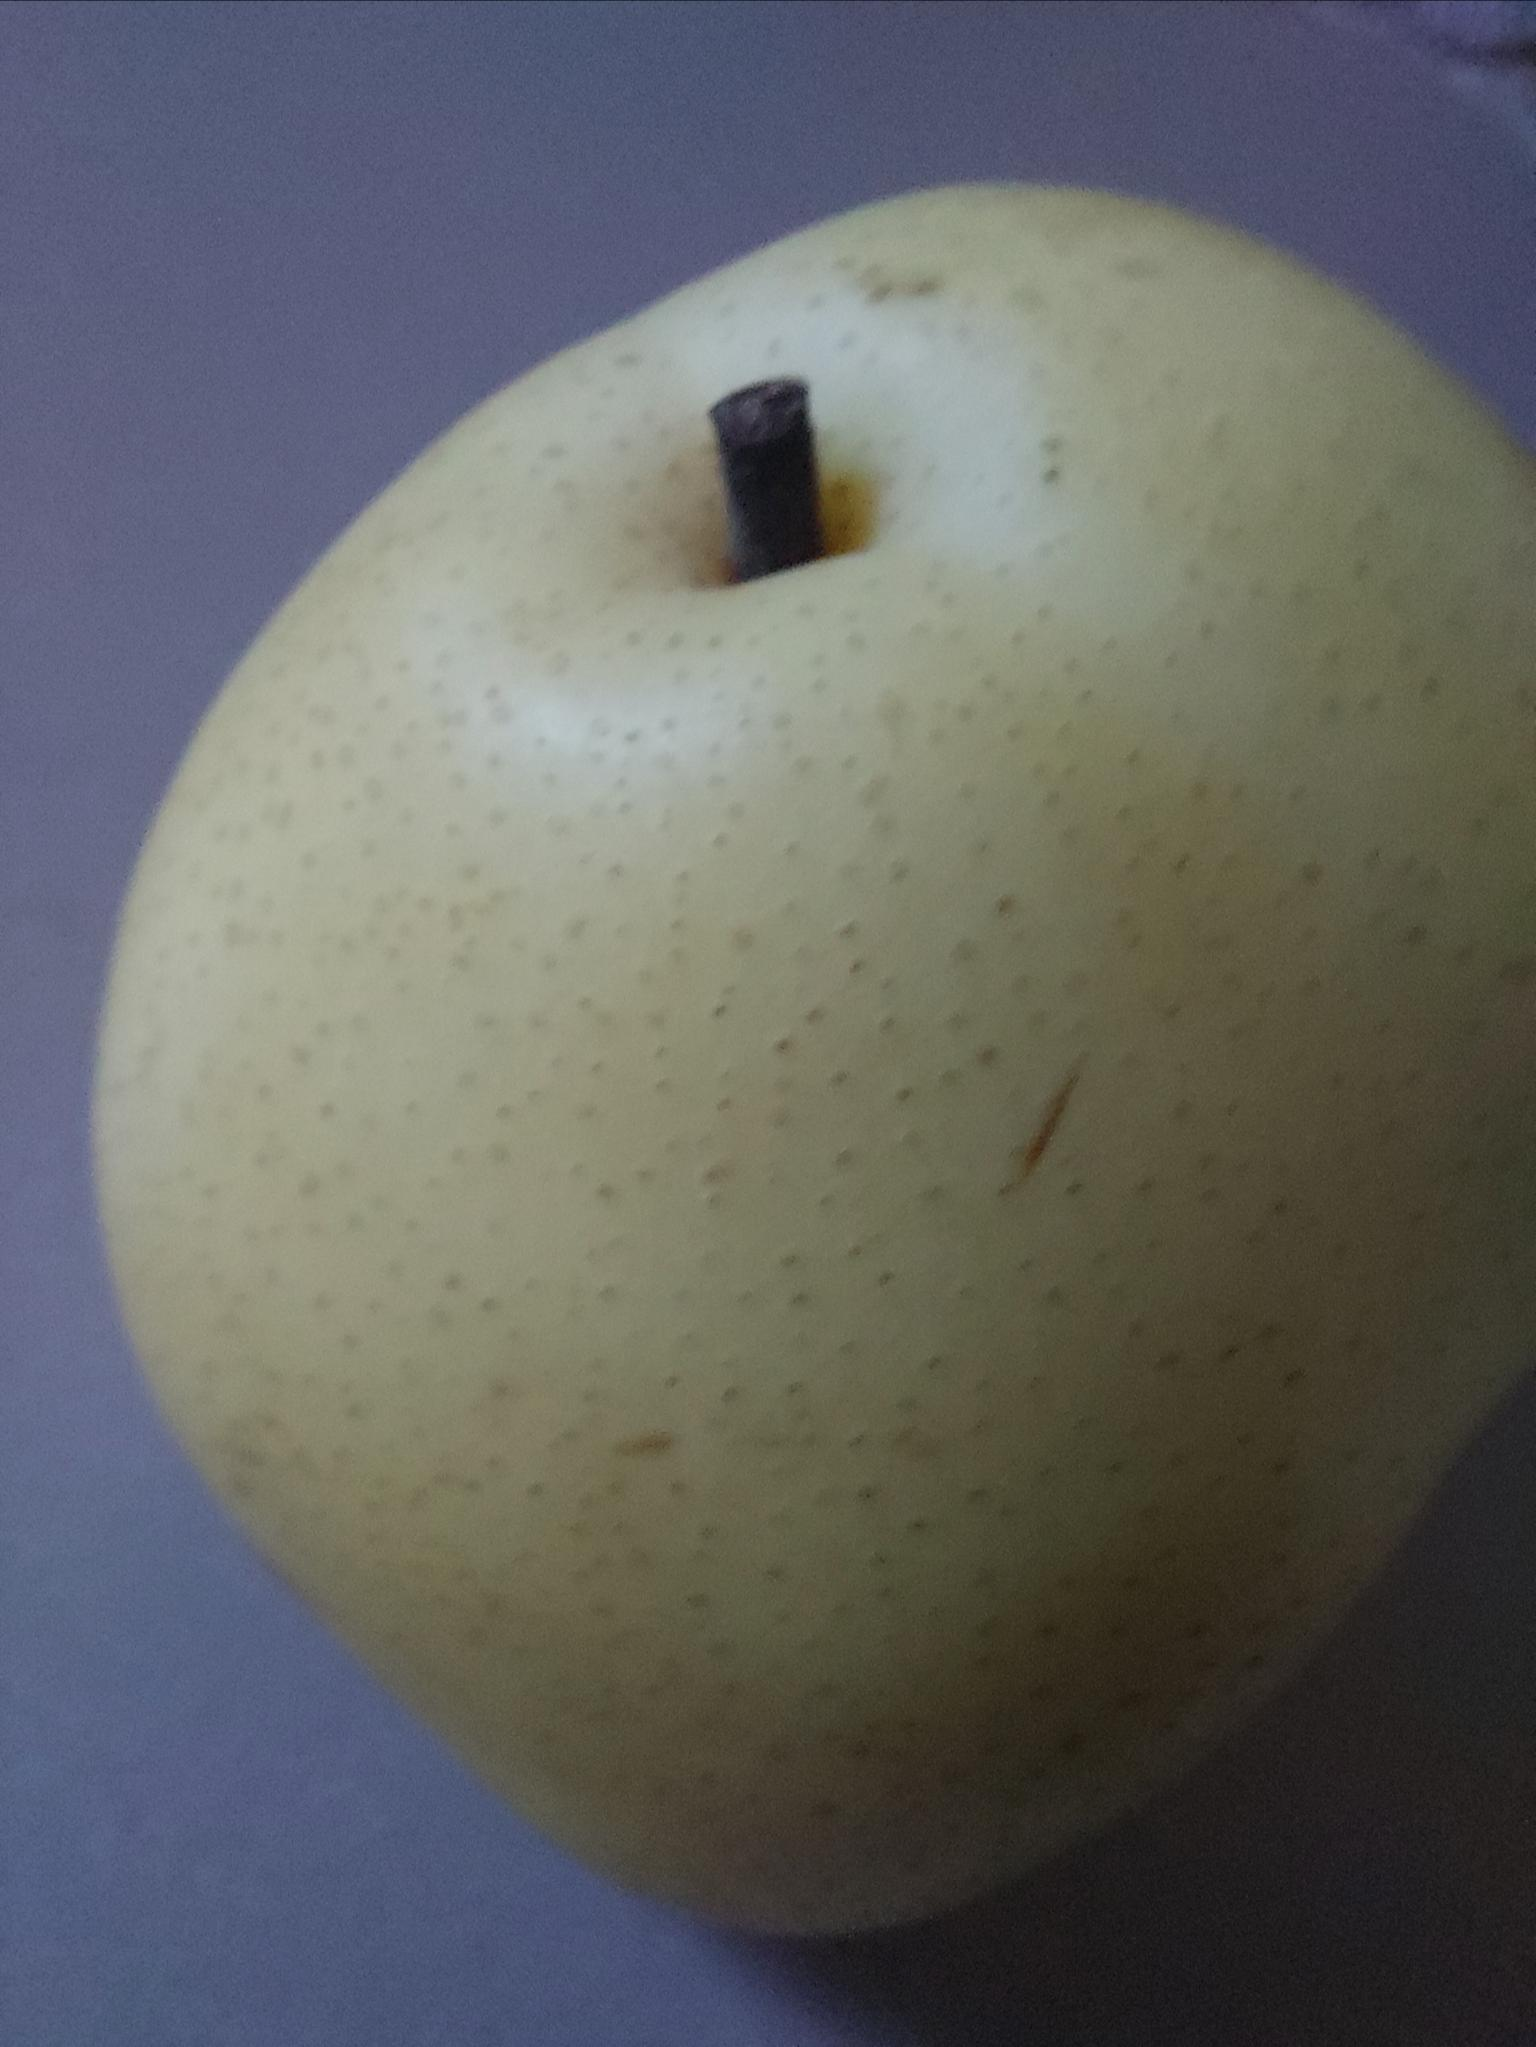Good Pear: (0, 45, 1533, 2013)
